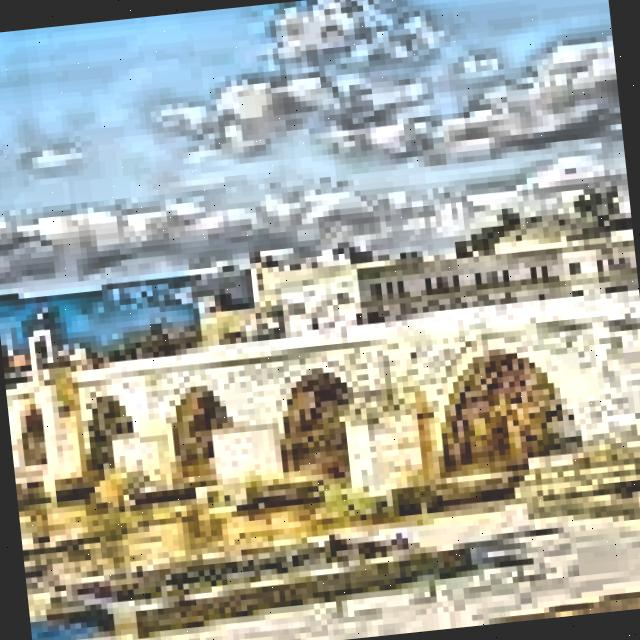stone bridge: (2, 288, 640, 540)
